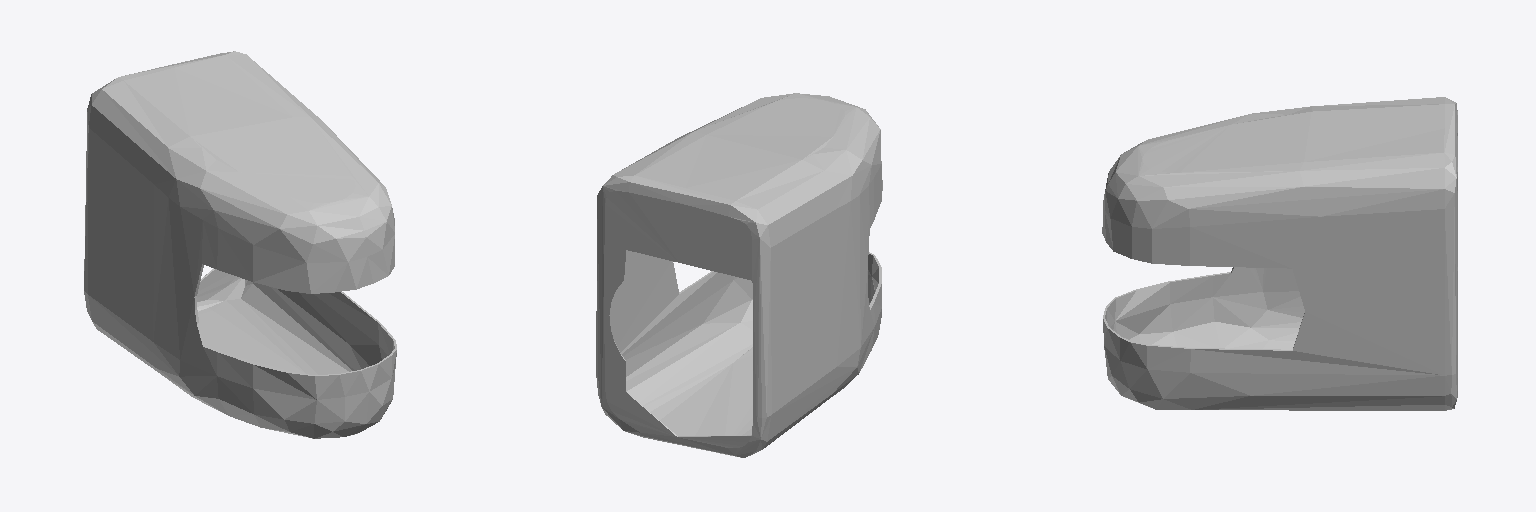
Rendered from arm_roll_light.obj.
3 views of the same model, side by side, from view 1: azimuth 30°, elevation 25°; view 2: azimuth 150°, elevation 25°; view 3: azimuth 270°, elevation 25° (orthographic).
Size of the model in its own units: 0.0765 by 0.109 by 0.1367.